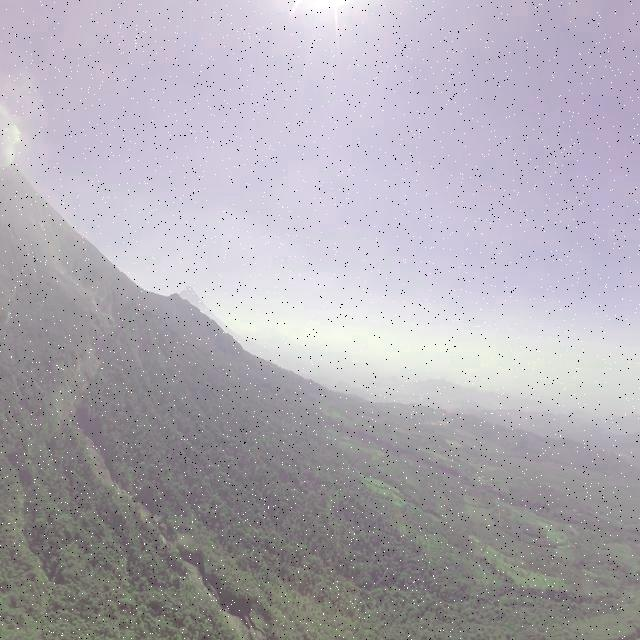Plume: (2, 120, 24, 164)
Summit: (3, 162, 24, 174)
